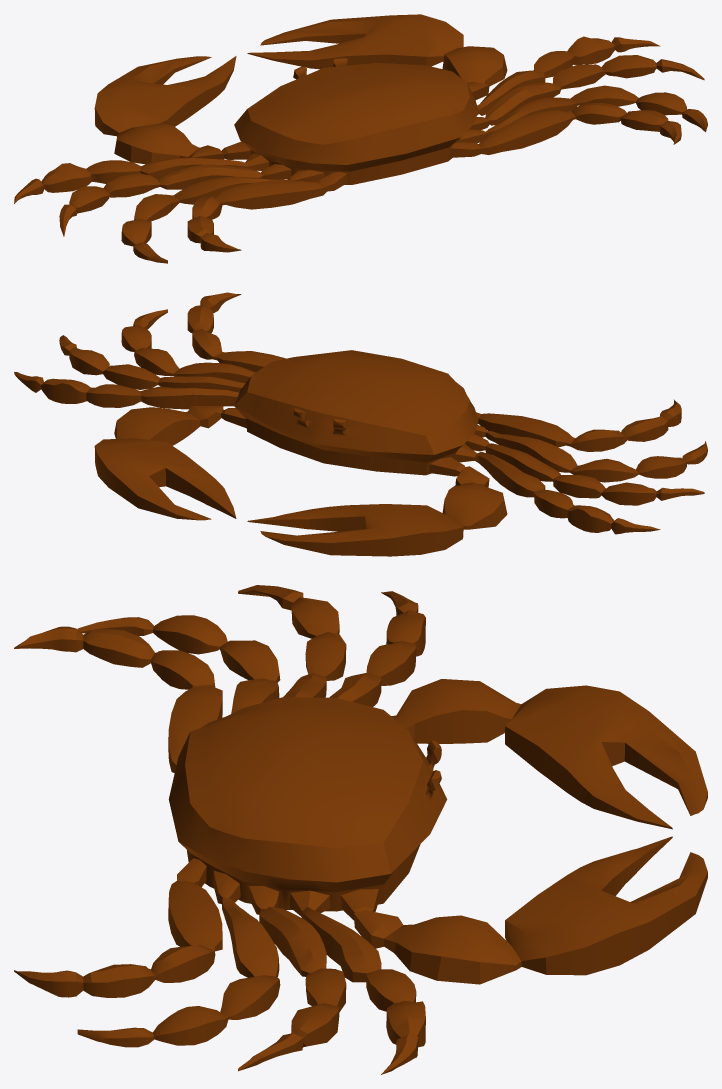
The model's file is crabV5.fbx.
3 views of the same model, one above another, from view 1: azimuth 30°, elevation 25°; view 2: azimuth 150°, elevation 25°; view 3: azimuth 270°, elevation 25° (orthographic). The views are drawn at different scales.
Parts seen in each view (by area): view 1: Cube; view 2: Cube; view 3: Cube.
Part boxes in pixels (x1,y1,x2,y2): Cube: (14,14,707,263); Cube: (14,292,707,556); Cube: (14,585,707,1074).
Bounding box in the file's own units: 1899 × 182 × 1155.
